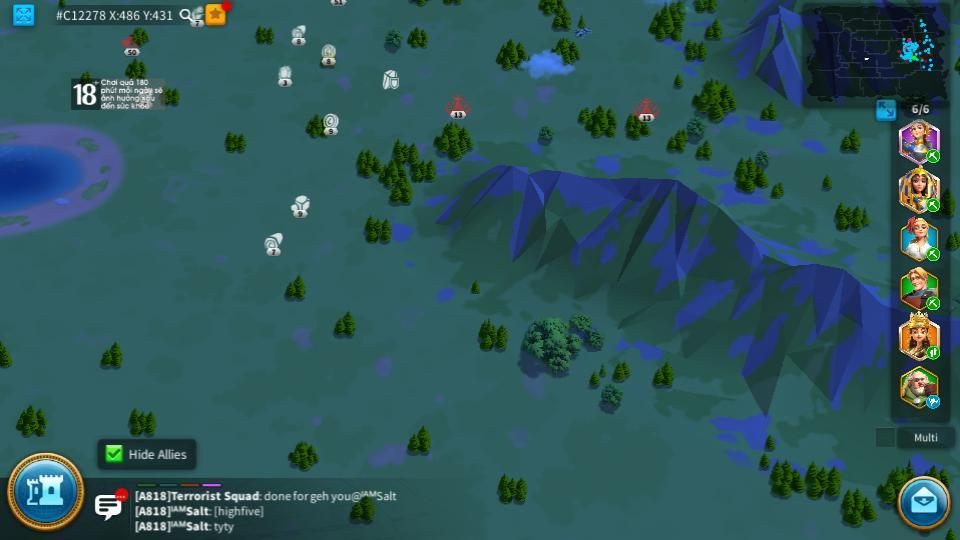gem-z-out: (276, 64, 294, 85)
march_idle: (925, 396, 942, 408)
march_marching: (925, 197, 941, 212), (925, 345, 941, 359), (925, 150, 941, 162), (925, 297, 942, 308), (925, 250, 942, 261)
